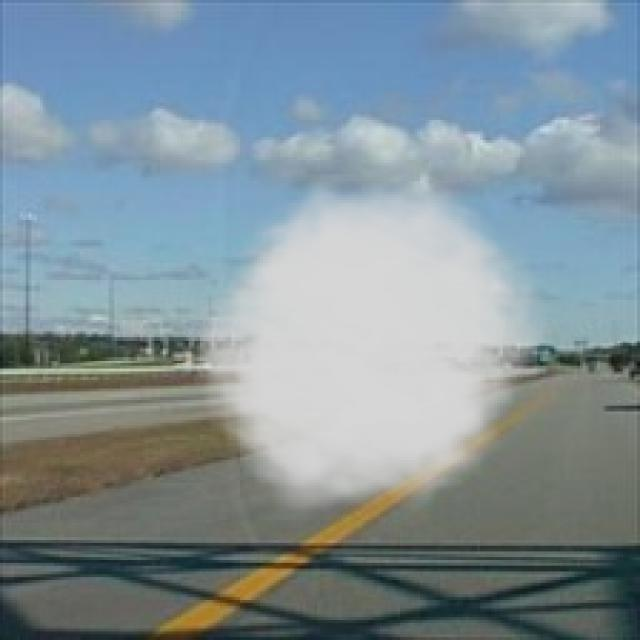Smoke: (180, 174, 557, 526)
